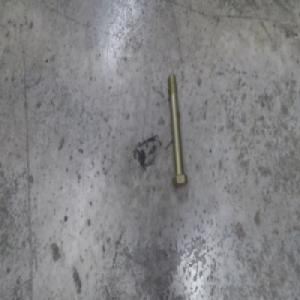Bolt: (166, 70, 188, 185)
